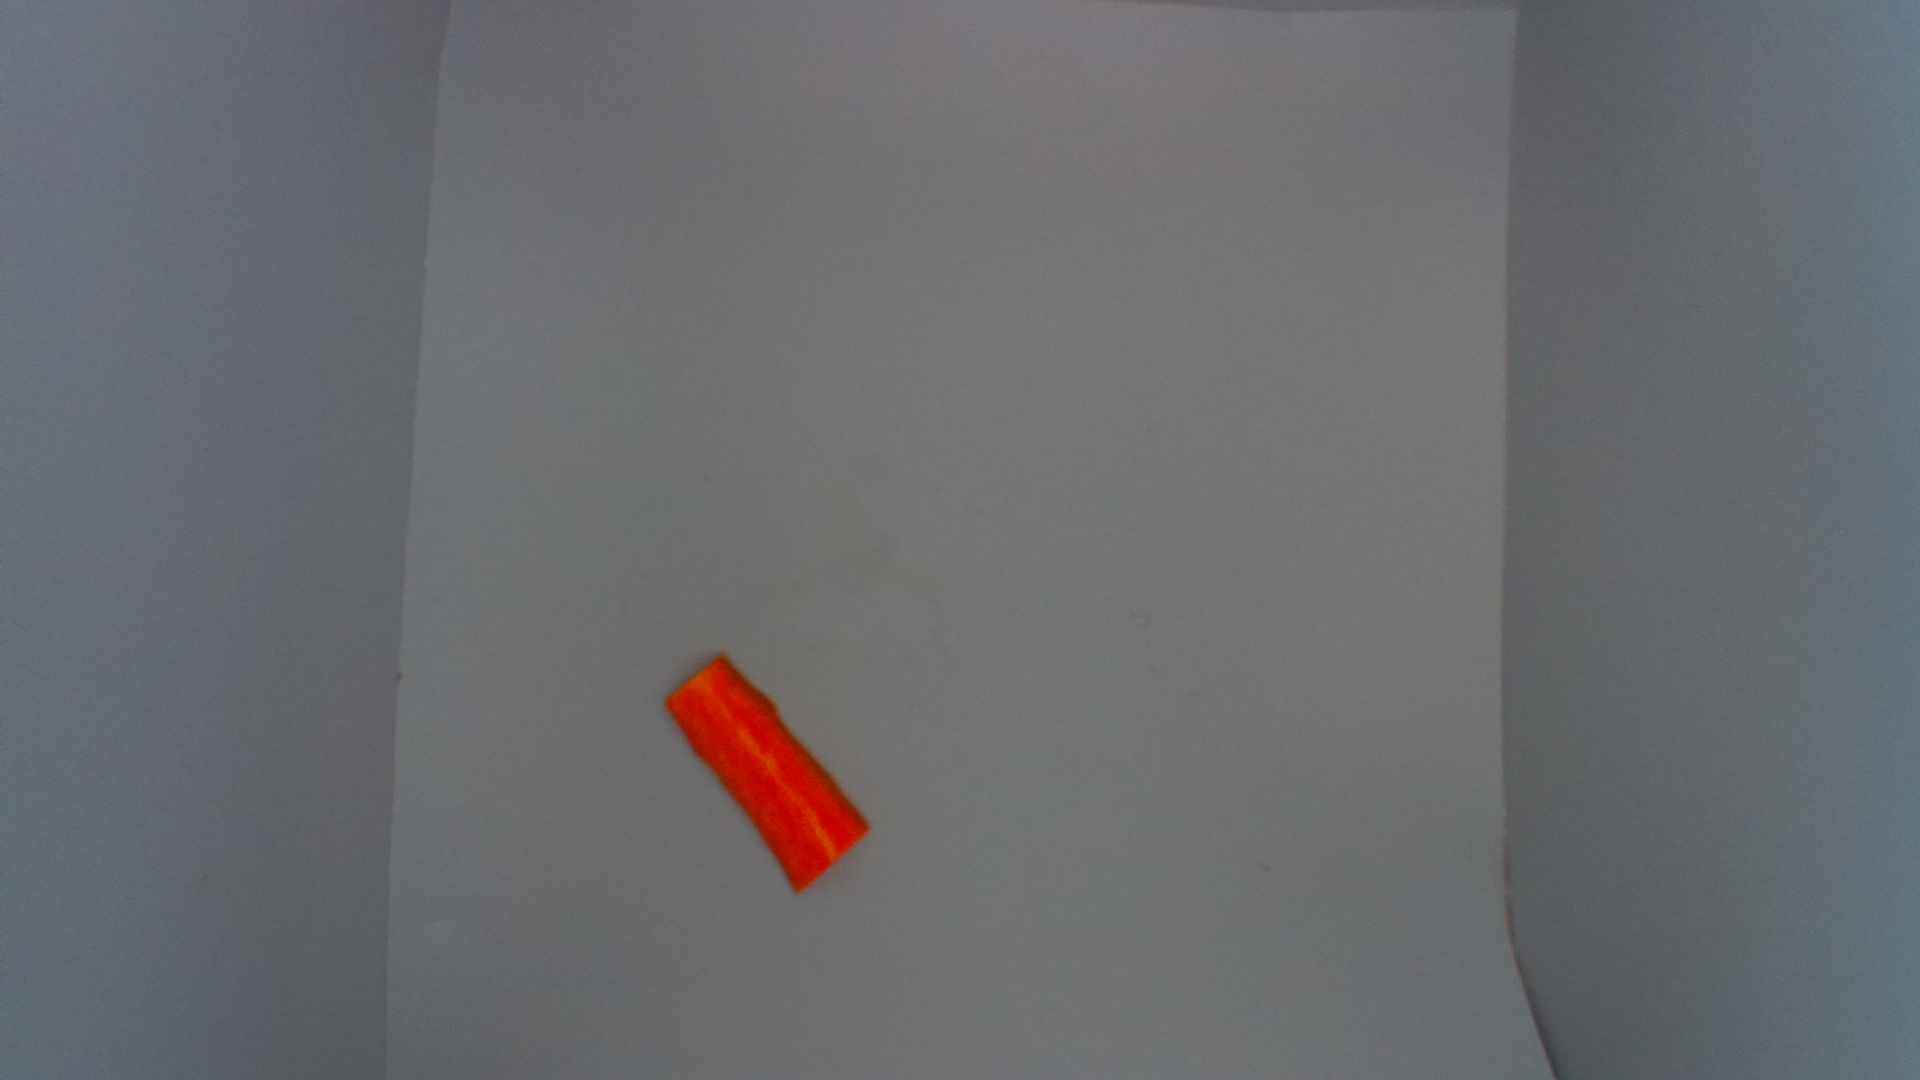carrot: (665, 653, 873, 898)
